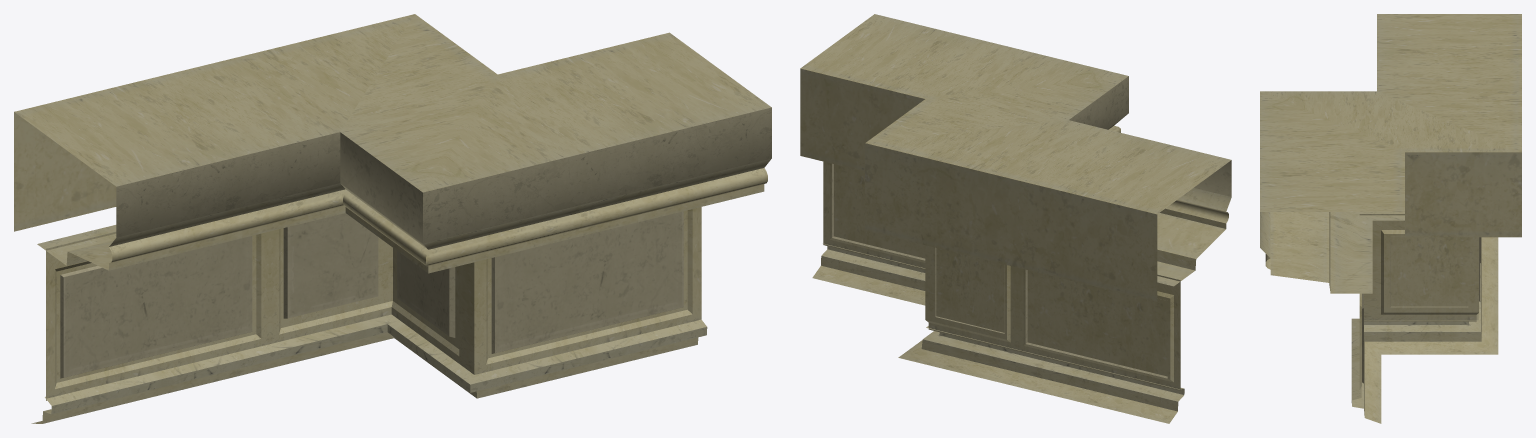
Rendered from Cornice_Marble_90Angle_R.gltf.
The picture shows the model from 3 angles, left to right: view 1: azimuth 30°, elevation 25°; view 2: azimuth 150°, elevation 25°; view 3: azimuth 270°, elevation 25°; orthographic projection. The views are drawn at different scales.
Visible parts, largest first — view 1: Cornice_Marble_90Angle_R; view 2: Cornice_Marble_90Angle_R; view 3: Cornice_Marble_90Angle_R.
Part boxes in pixels (x1,y1,x2,y2): Cornice_Marble_90Angle_R: (14, 14, 771, 423); Cornice_Marble_90Angle_R: (800, 14, 1231, 423); Cornice_Marble_90Angle_R: (1260, 14, 1521, 423).
Bounding box in the file's own units: 2 × 1 × 1.12.
2 materials, 2 textured.
